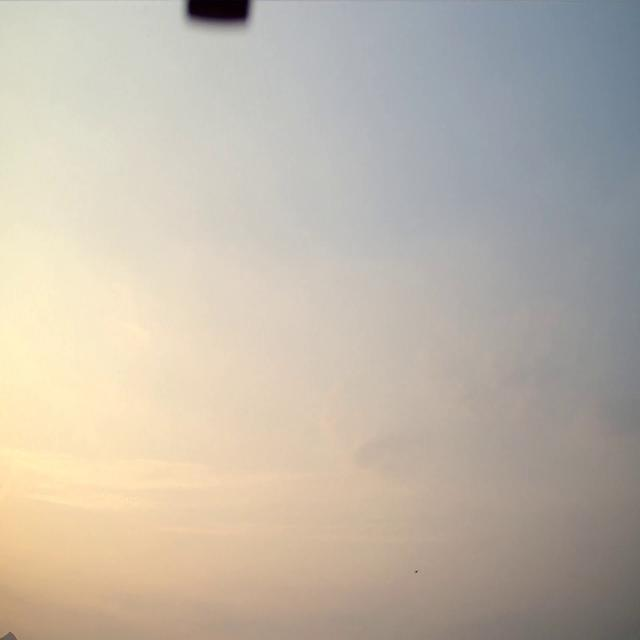drone: (415, 570, 419, 574)
